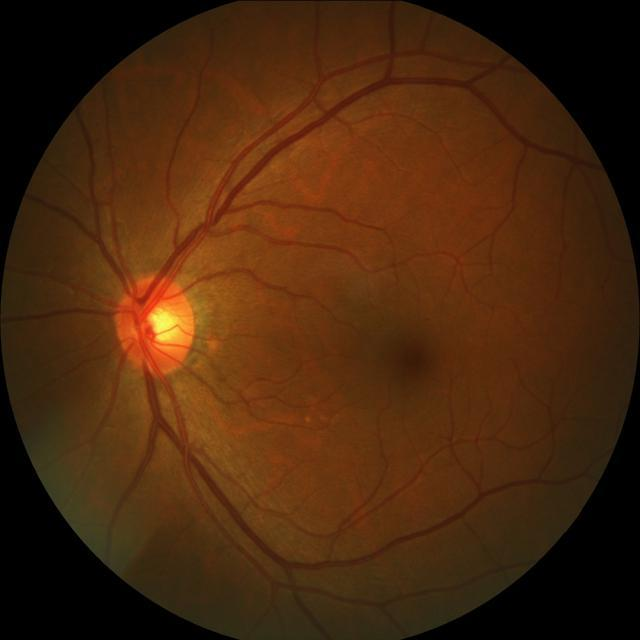OC: (147, 308, 180, 342)
OD: (114, 278, 194, 376)
